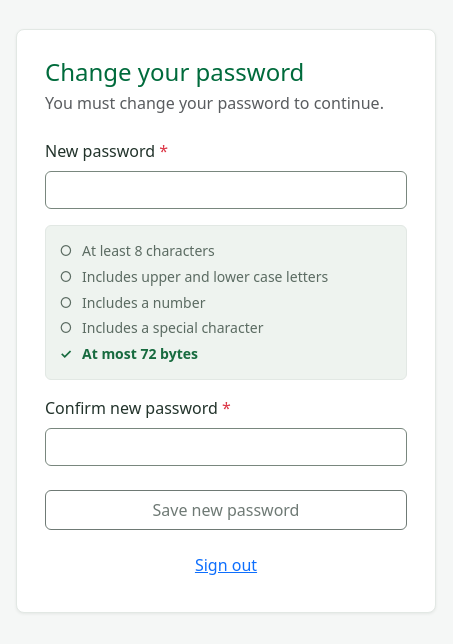
Test case: C-02 Change Password gate › keeps Save disabled until every rule and the confirmation pass
expect the button "Save new password" is disabled: met, box [45,490,407,530]
Step 1. Type "Password1!" into the password field labelled "New password *" → (226, 190), box [45,171,407,209]
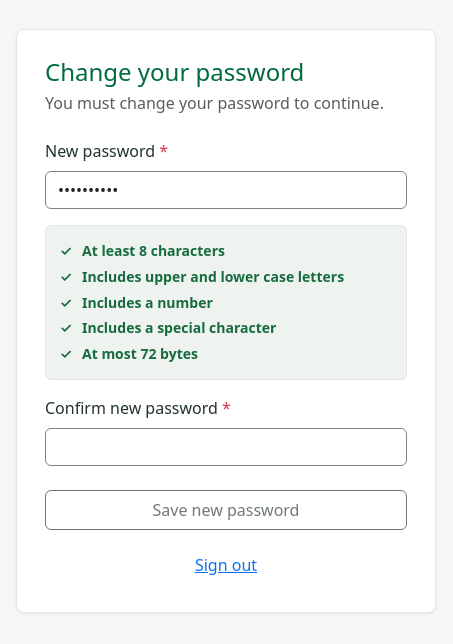
expect the button "Save new password" is disabled: met, box [45,490,407,530]
Step 2. Type "Password1" into the password field labelled "Confirm new password *" → (226, 447), box [45,428,407,466]
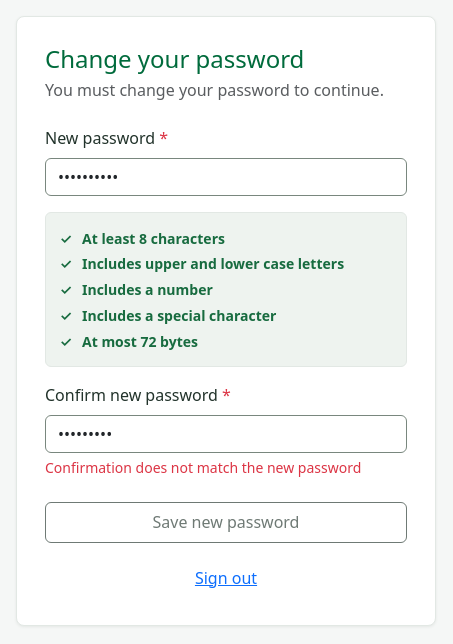
expect the button "Save new password" is disabled: met, box [45,502,407,543]
expect the text "Confirmation does not match the new password" is shown: met, box [45,457,407,478]
Step 3. Type "Password1!" into the password field labelled "Confirm new password *" → (226, 434), box [45,415,407,453]
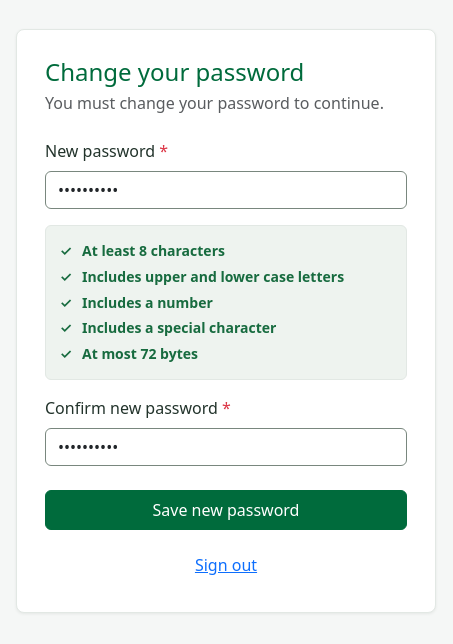
expect the button "Save new password" is enabled: met, box [45,490,407,530]
